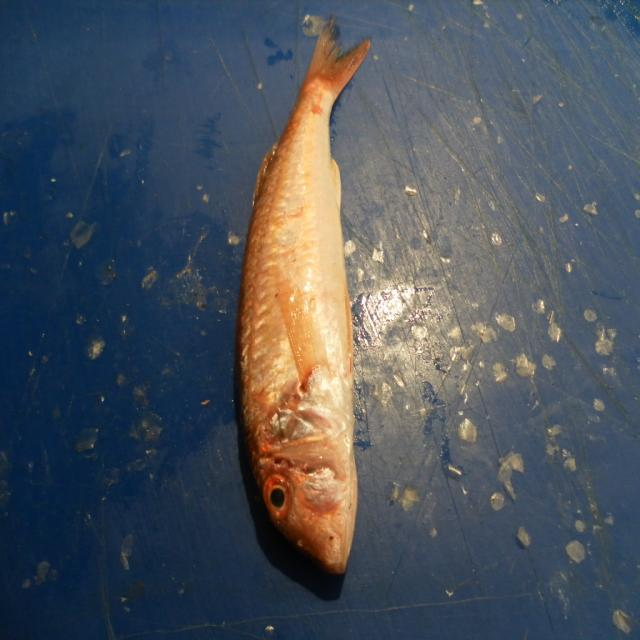Striped-Red-Mullet-tekir-: (234, 16, 372, 580)
